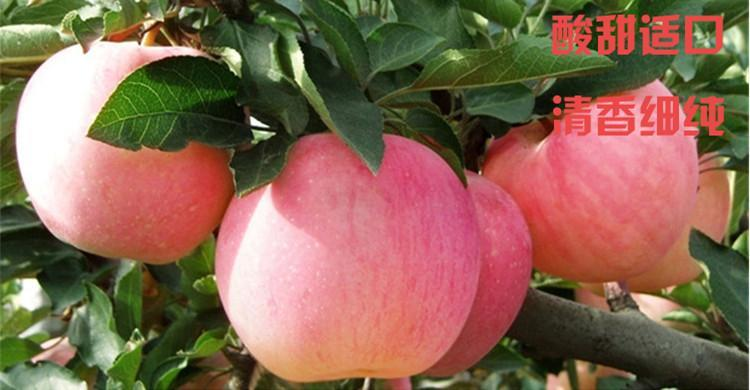apple: (210, 122, 478, 382), (14, 41, 231, 262), (477, 82, 698, 282)
